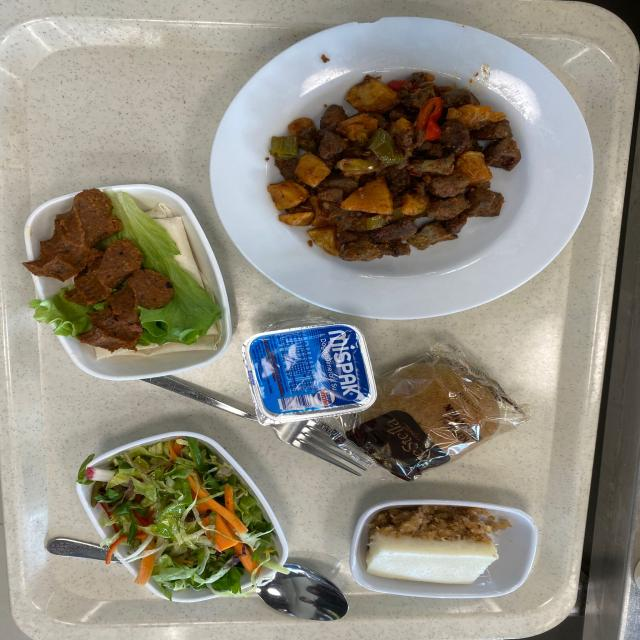ana_yemek: (217, 18, 577, 320)
yan_yemek: (78, 432, 291, 603), (26, 186, 234, 349), (350, 498, 528, 600)
